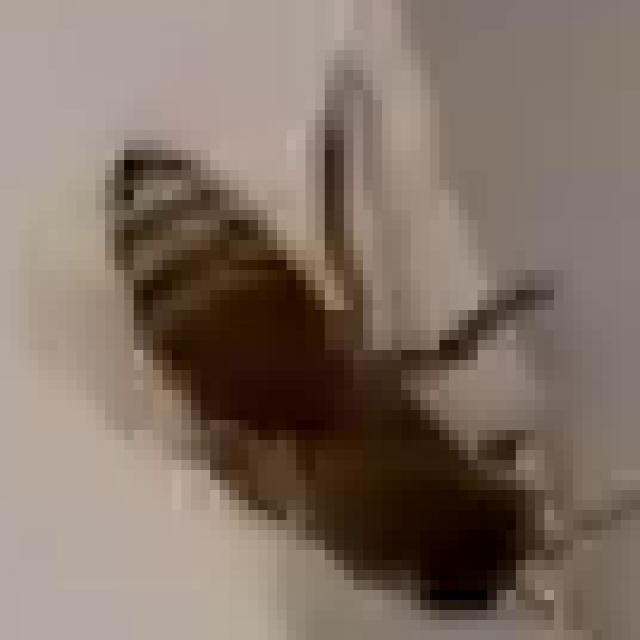honeybee: (96, 127, 574, 609)
